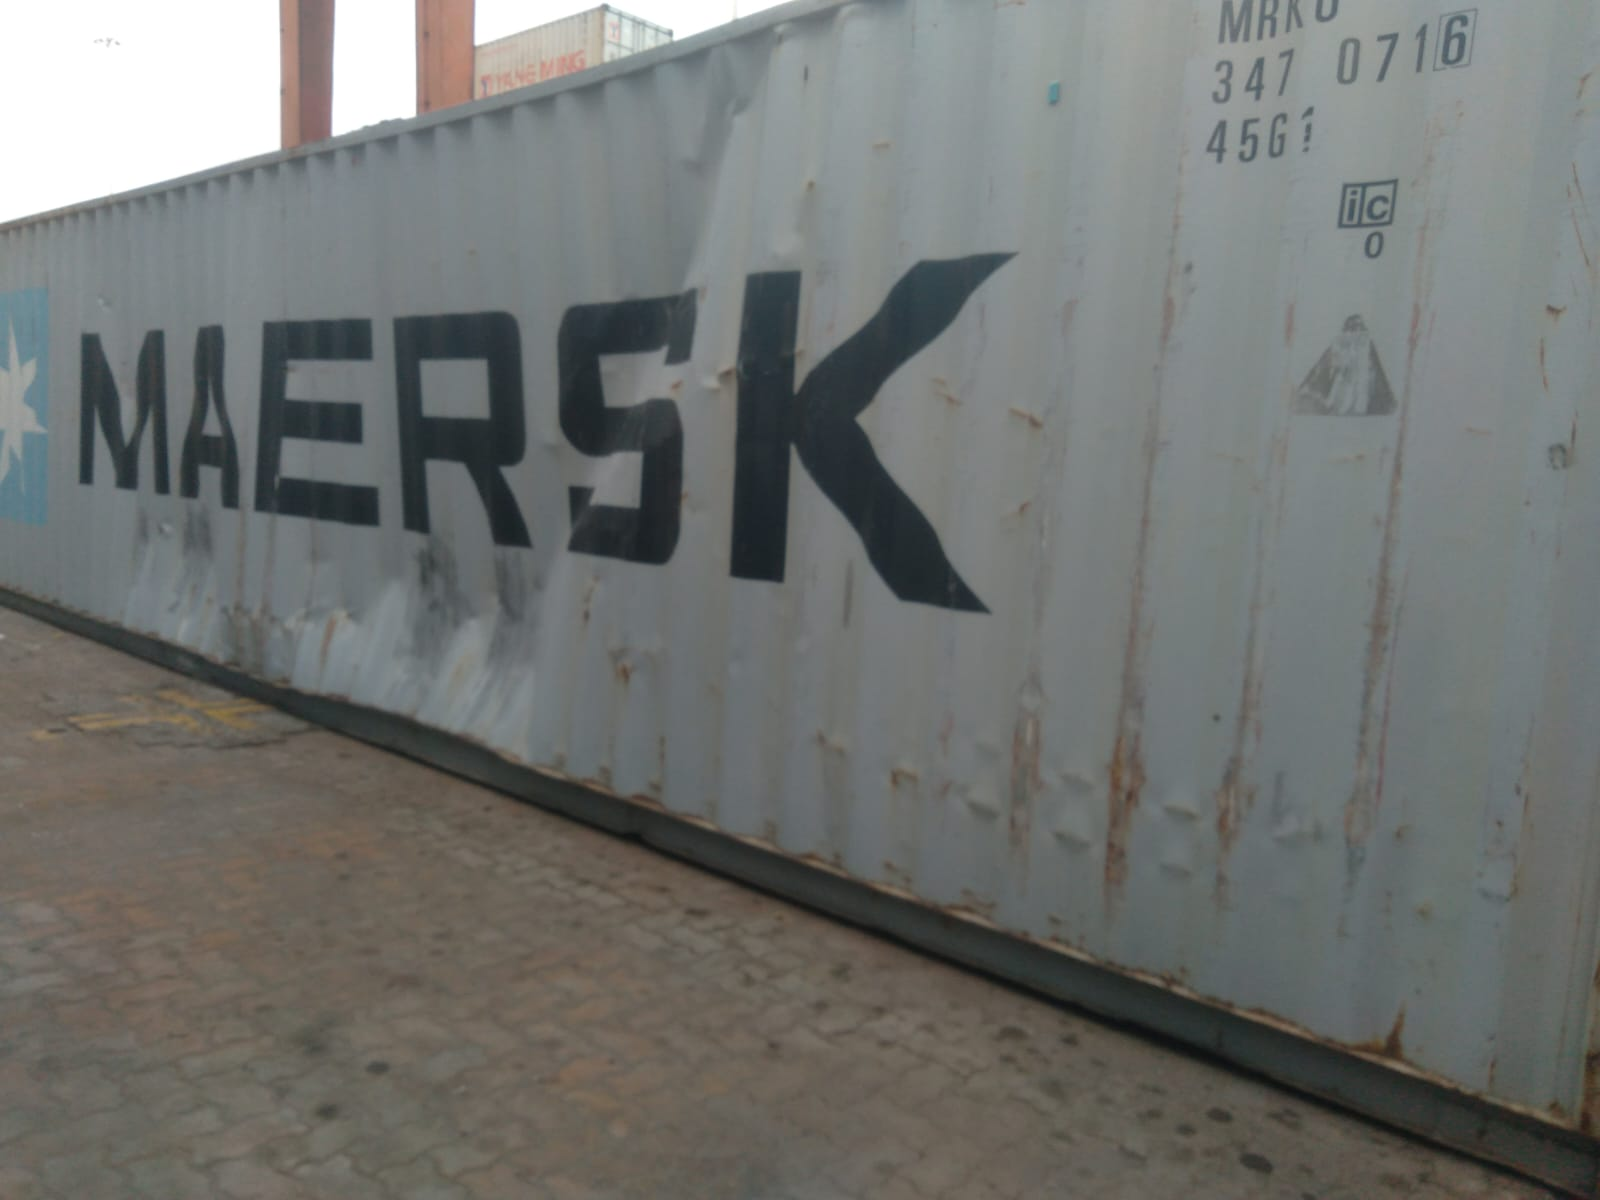bulged: (467, 3, 854, 616)
dented: (913, 746, 1409, 920)
